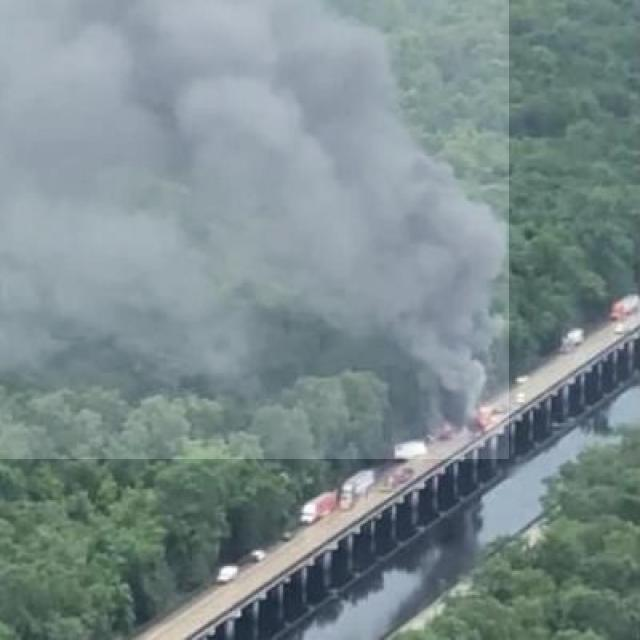Smoke: (0, 0, 509, 459)
